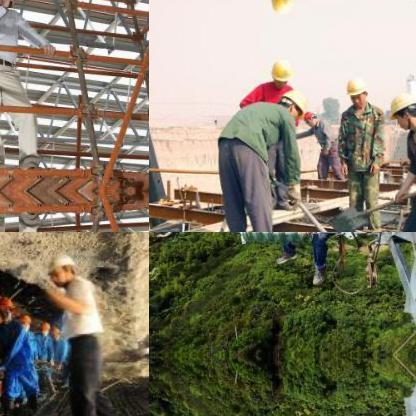Helmet: (387, 87, 415, 131), (45, 249, 75, 285), (278, 85, 306, 119), (266, 53, 294, 85), (344, 71, 368, 107), (266, 0, 294, 18), (0, 293, 16, 322), (302, 107, 316, 126), (18, 310, 30, 328), (38, 316, 48, 334)
